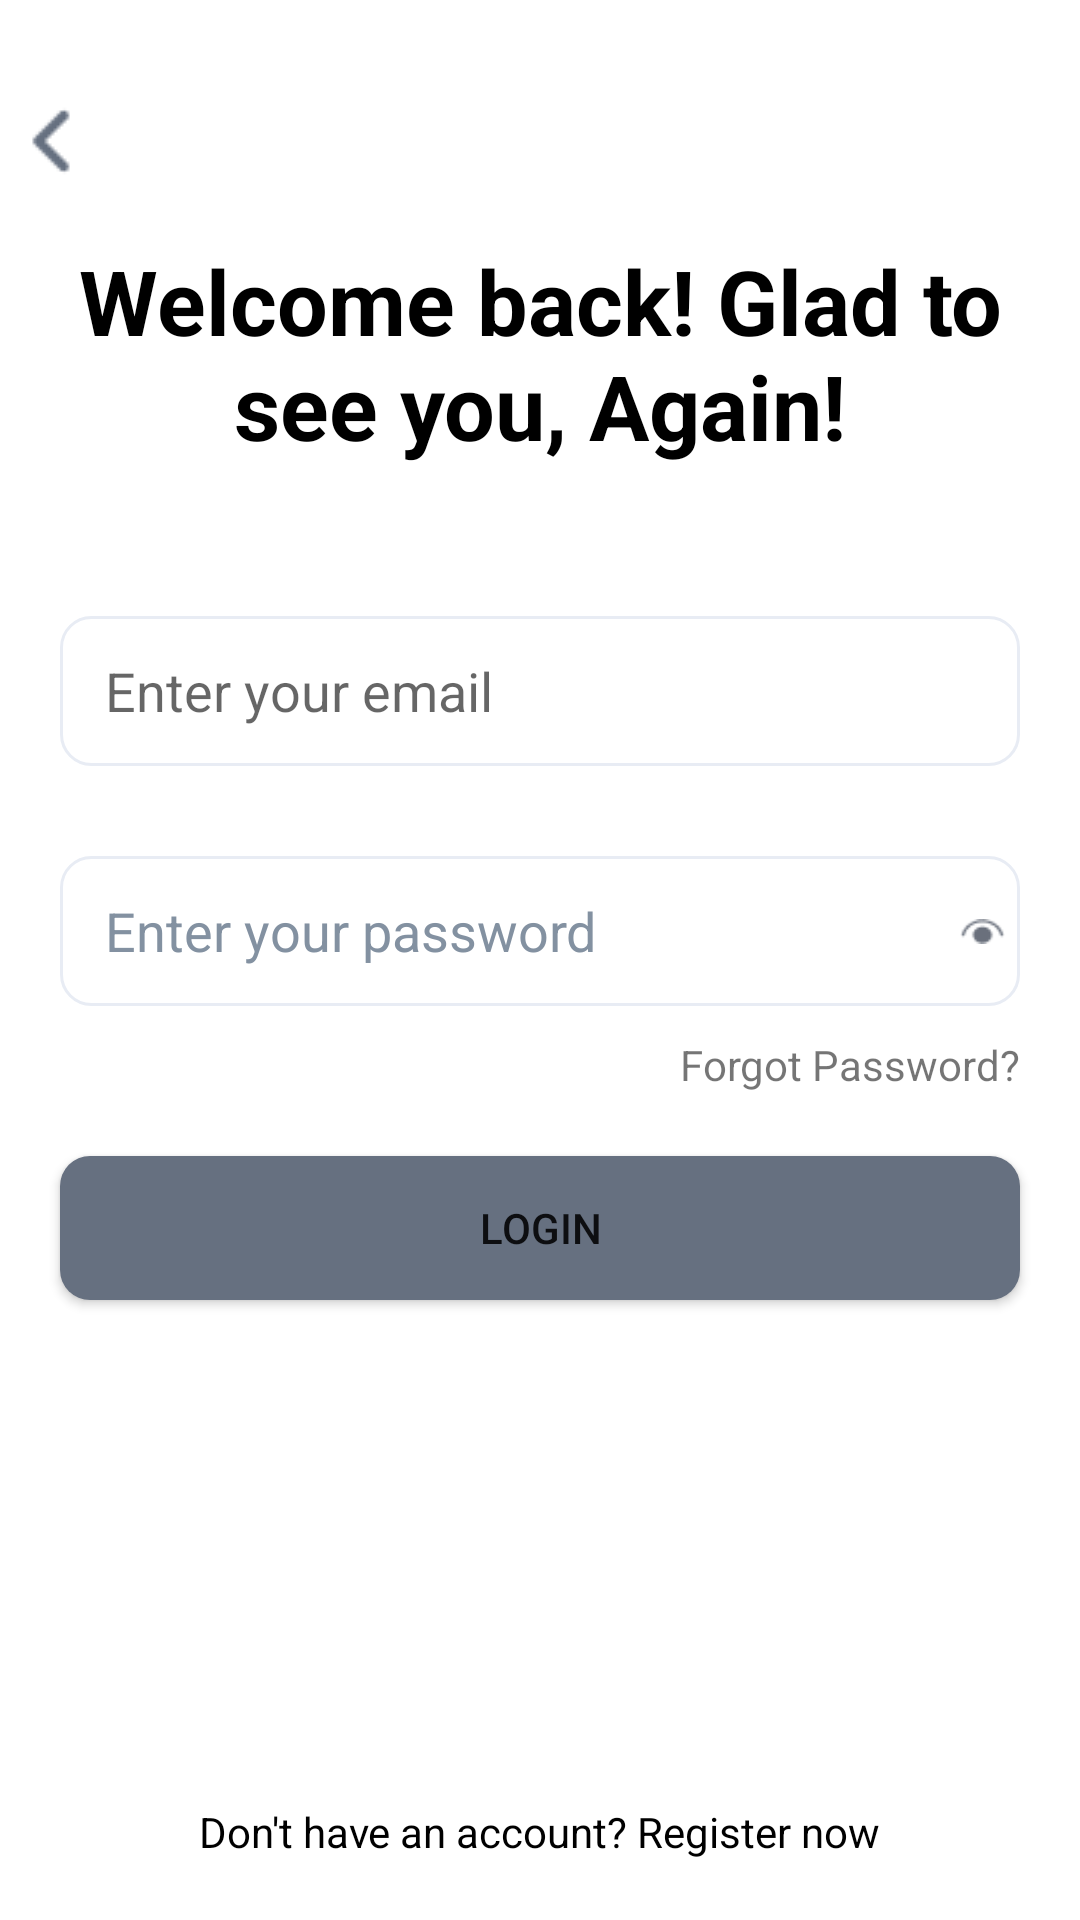

Icon bounding boxes for this 1080x1920 phone screenshot, format {"left": x1, "top": y1, "right": x2, "bottom": y2}:
eye: {"left": 961, "top": 919, "right": 1004, "bottom": 944}
